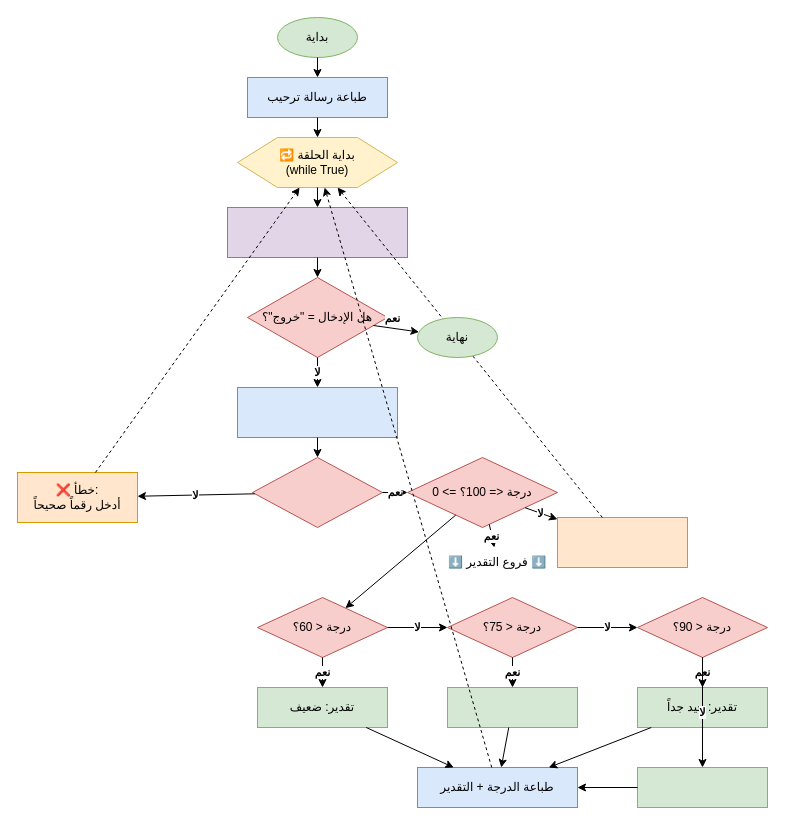
This 785x825 diagram has some shape labels left out. The box of each missing label's shape, as (x1, y1, x2, y2) in pixels:
أدخل درجة الطالب أو كلمة "خروج": (226, 206, 408, 258)
تقدير: جيد: (446, 686, 578, 728)
تقدير: ممتاز: (636, 766, 768, 808)
محاولة تحويل الإدخال إلى رقم (float): (236, 386, 398, 438)
هل التحويل ناجح؟: (252, 456, 382, 528)
❌ خطأ: الدرجة بين 0 و 100: (556, 516, 688, 568)
